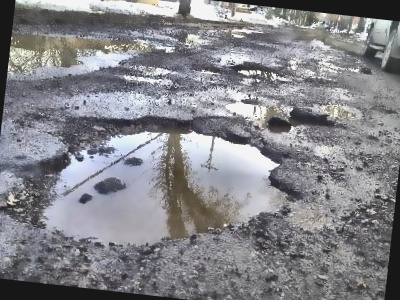pothole: (8, 96, 307, 264), (233, 61, 281, 81), (318, 101, 365, 120), (224, 98, 267, 117)
